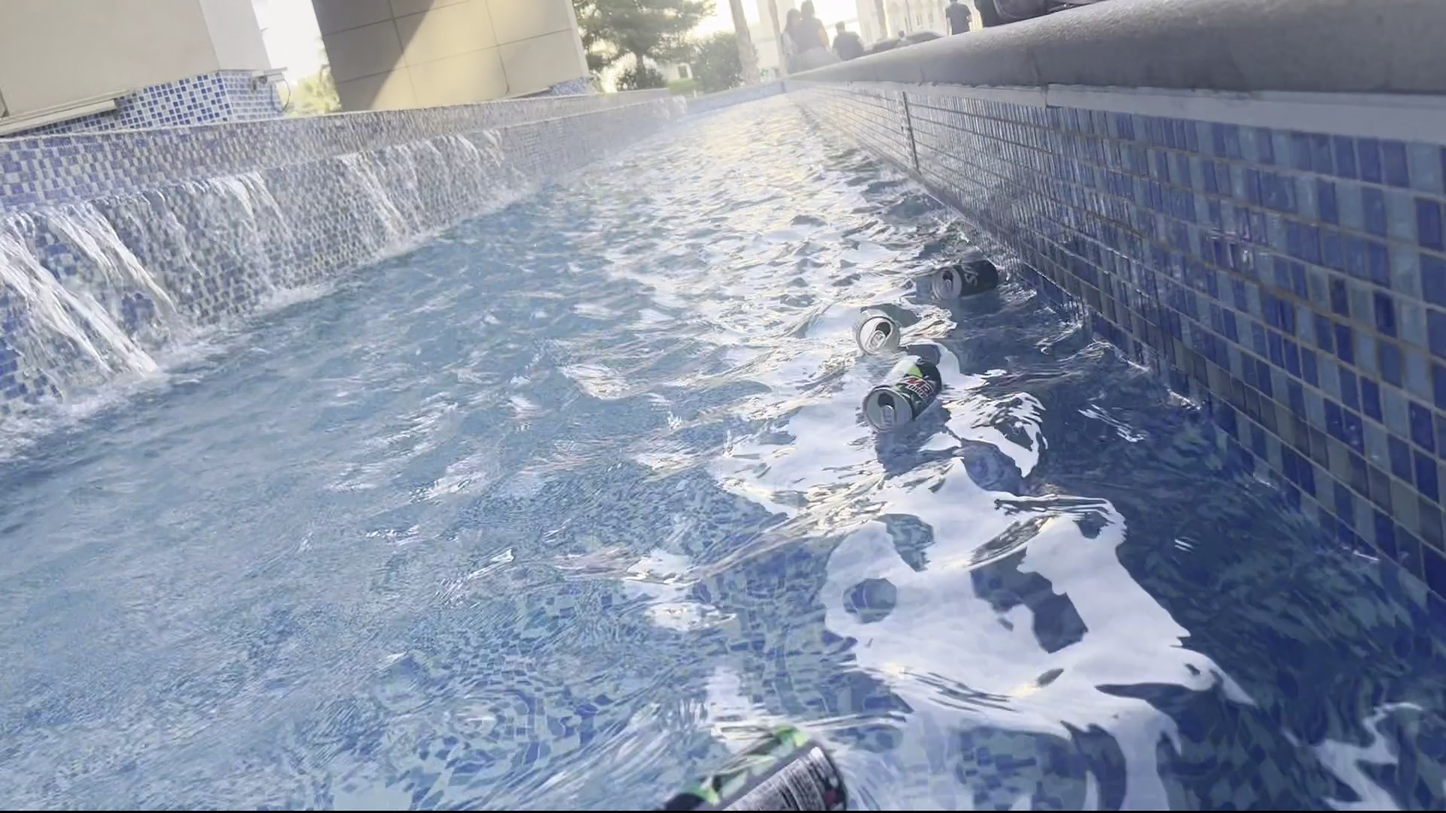debris: (641, 709, 854, 813), (850, 352, 947, 434), (923, 251, 1002, 305), (847, 303, 905, 361)
